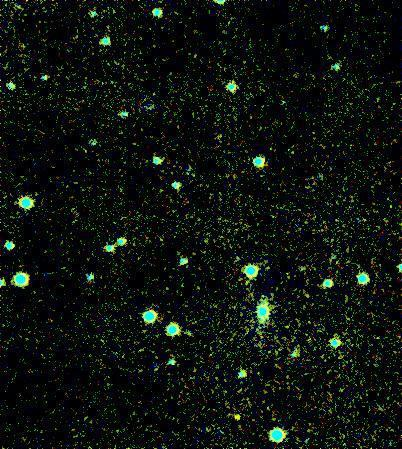star: (223, 403, 253, 433)
